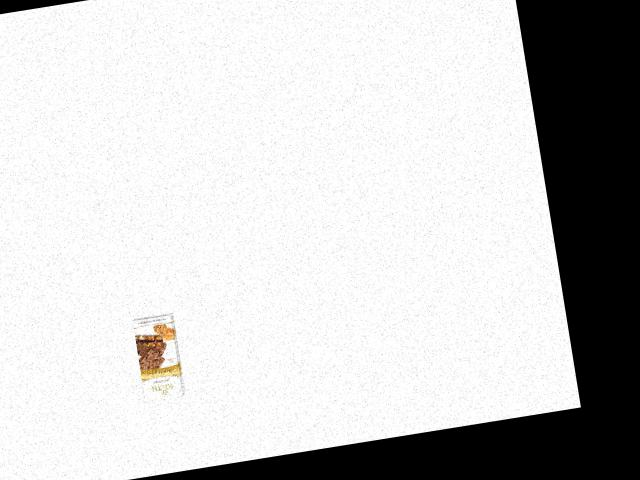chocolate: (130, 310, 188, 406)
